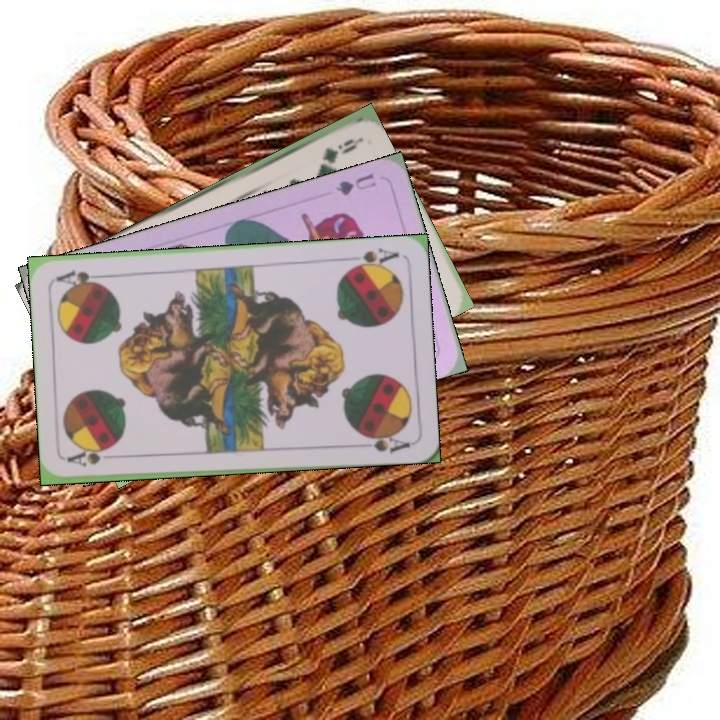G9: (318, 134, 359, 164)
GU: (331, 169, 379, 198)
SA: (343, 244, 402, 273), (64, 446, 112, 469)
